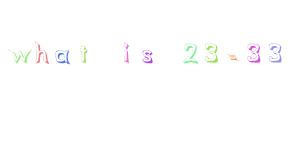-: (224, 49, 242, 66)
2: (180, 41, 200, 66)
3: (265, 39, 286, 68), (201, 39, 222, 67), (243, 40, 264, 66)
a: (53, 46, 72, 68)
h: (33, 36, 51, 67)
i: (117, 40, 135, 67)
s: (138, 44, 157, 68)
t: (76, 43, 91, 65)
w: (4, 41, 32, 66)
